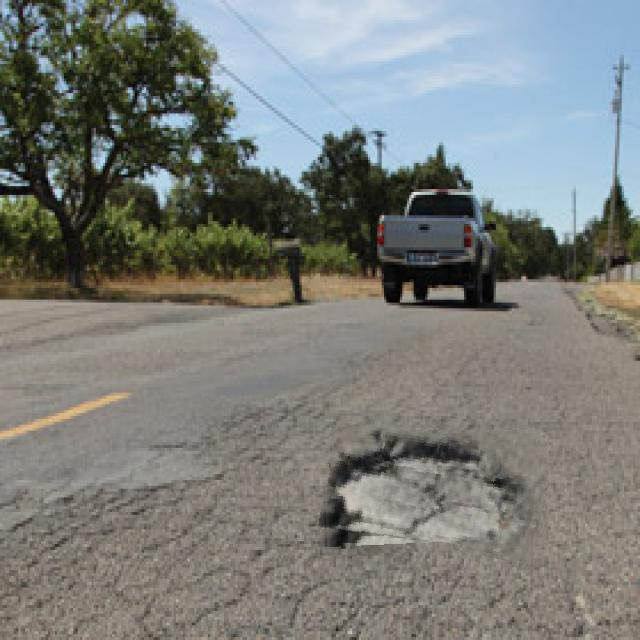Pothole: (322, 431, 548, 556)
